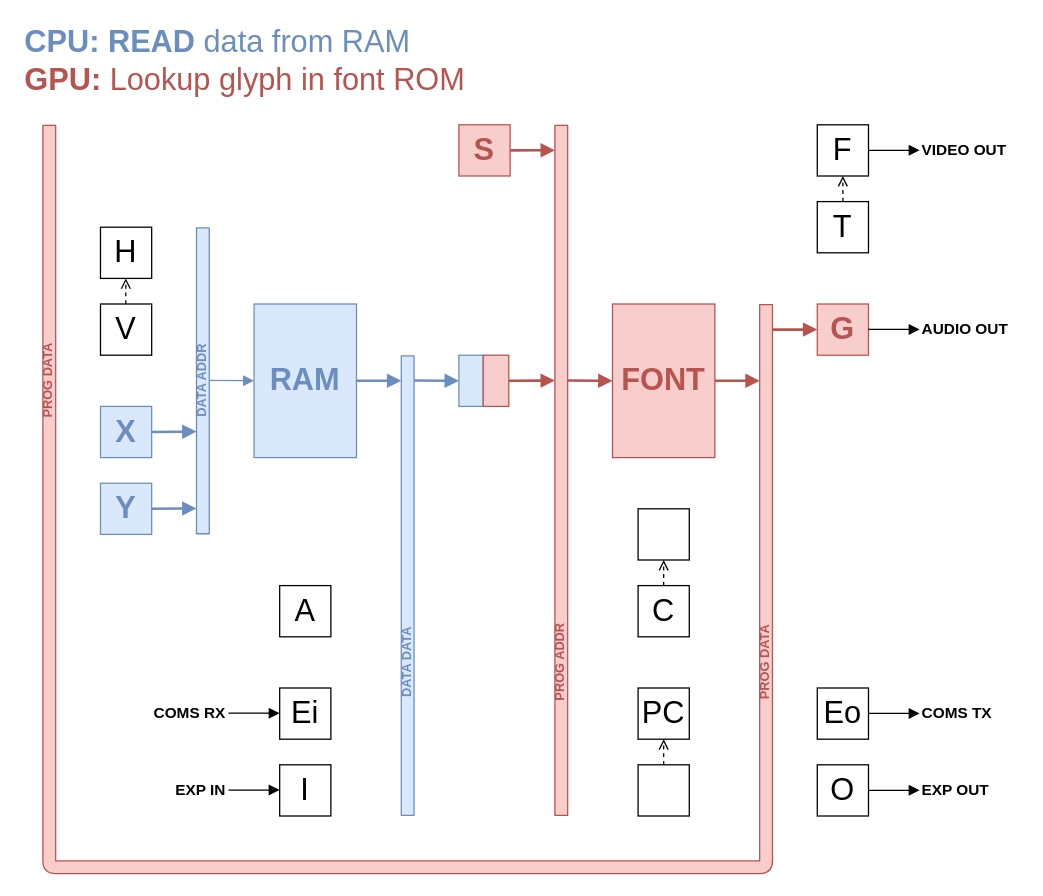
The diagram is 1043 pixels wide and 896 high, and some of its shapes have lost their labels. The box of each missing label's shape, as (x1, y1, x2, y2) in pixels:
HL: (637, 508, 689, 560)
Pg: (637, 764, 689, 816)
